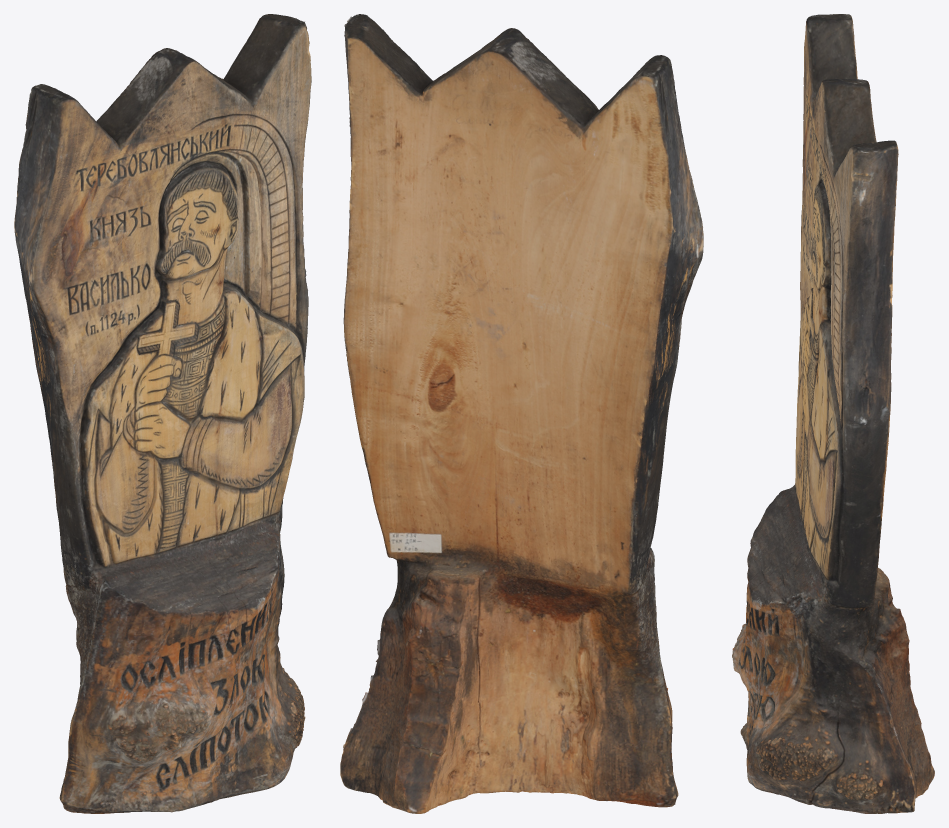
File: item6.glb
3 views of the same model, side by side, from view 1: azimuth 30°, elevation 25°; view 2: azimuth 150°, elevation 25°; view 3: azimuth 270°, elevation 25° (orthographic). The views are drawn at different scales.
Parts seen in each view (by area): view 1: Object_2; view 2: Object_2; view 3: Object_2.
Boxes of the visible parts, <box> form: Object_2: <box>14,14,311,813</box>; Object_2: <box>340,14,703,813</box>; Object_2: <box>732,14,934,813</box>.
Bounding box in the file's own units: 8.94 × 20.02 × 5.38.
Materials: 1 (1 with a texture image).
